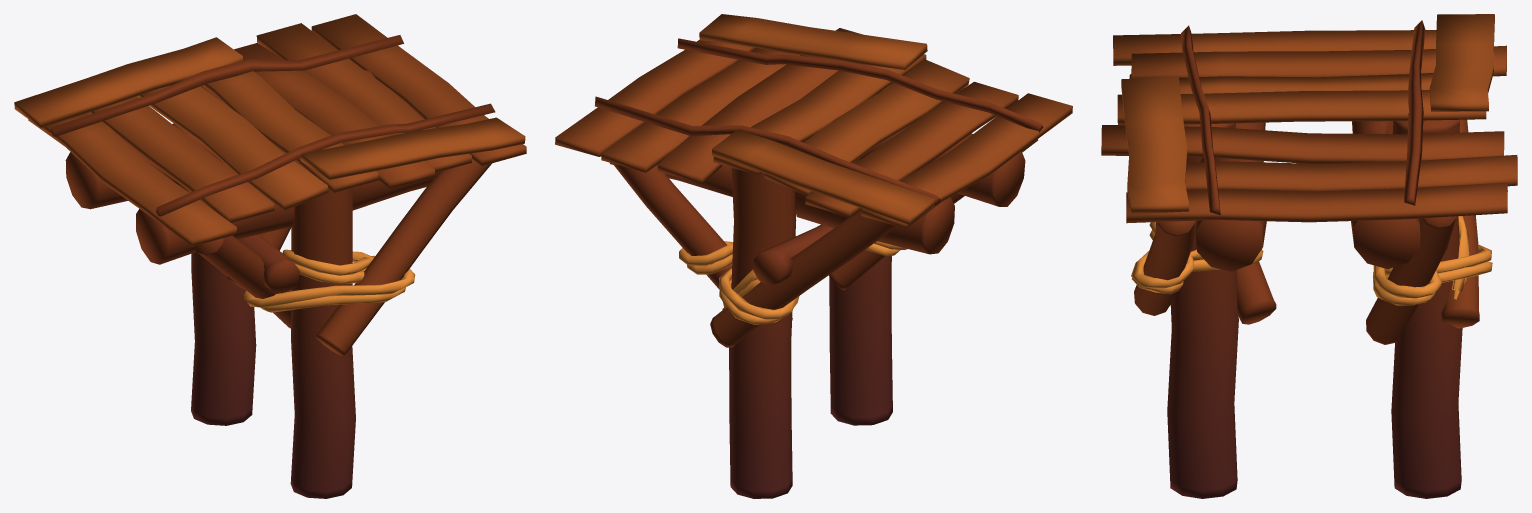
File: Bridge.fbx
3 renders of one model, left to right at view 1: azimuth 30°, elevation 25°; view 2: azimuth 150°, elevation 25°; view 3: azimuth 270°, elevation 25°, orthographic. The views are drawn at different scales.
Parts seen in each view (by area): view 1: Cube; view 2: Cube; view 3: Cube.
Boxes of the visible parts, left/top/right/bottom form: Cube: left=14, top=14, right=526, bottom=498; Cube: left=555, top=14, right=1072, bottom=498; Cube: left=1101, top=14, right=1517, bottom=498.
Bounding box in the file's own units: 3.9 × 3.69 × 3.54.
